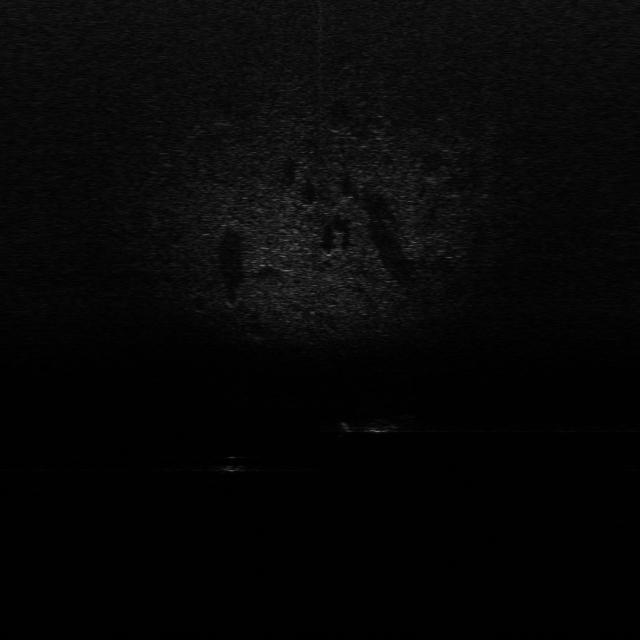ball: (219, 456, 243, 474)
human body: (326, 412, 423, 437)
